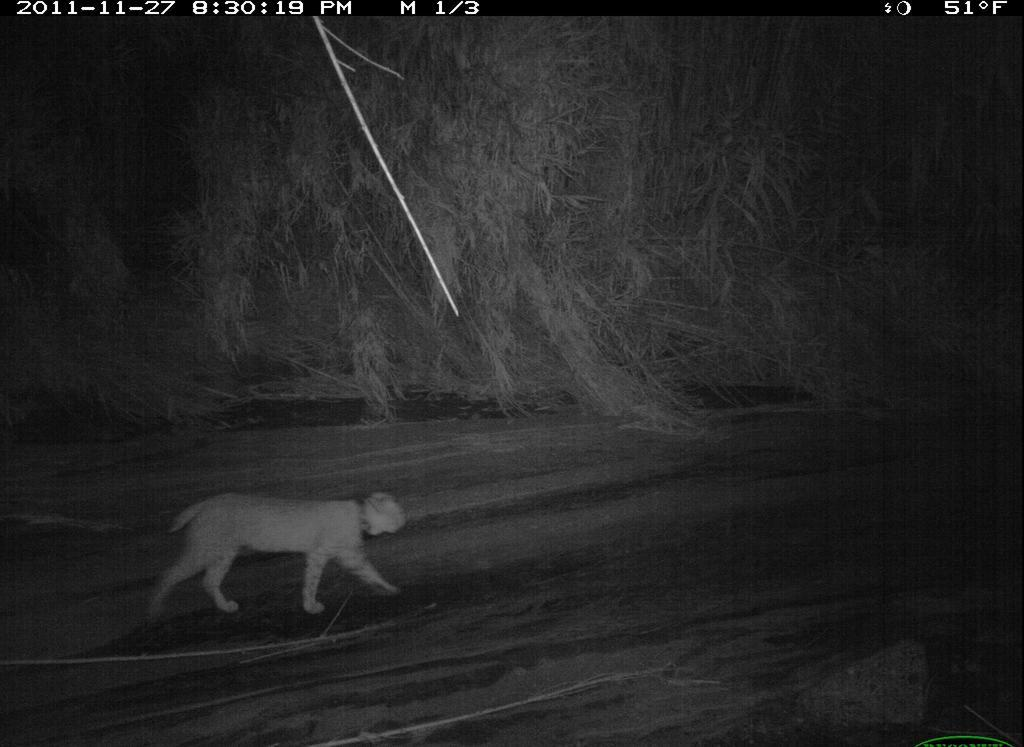bobcat: (144, 473, 419, 639)
